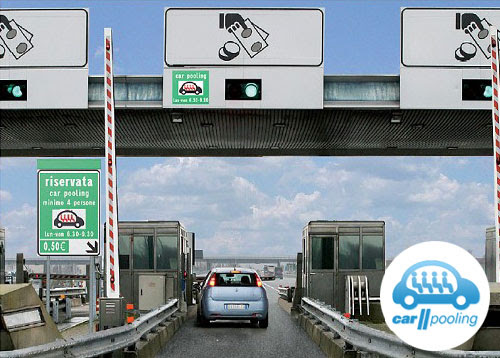car: (192, 254, 269, 333), (99, 318, 142, 353)
